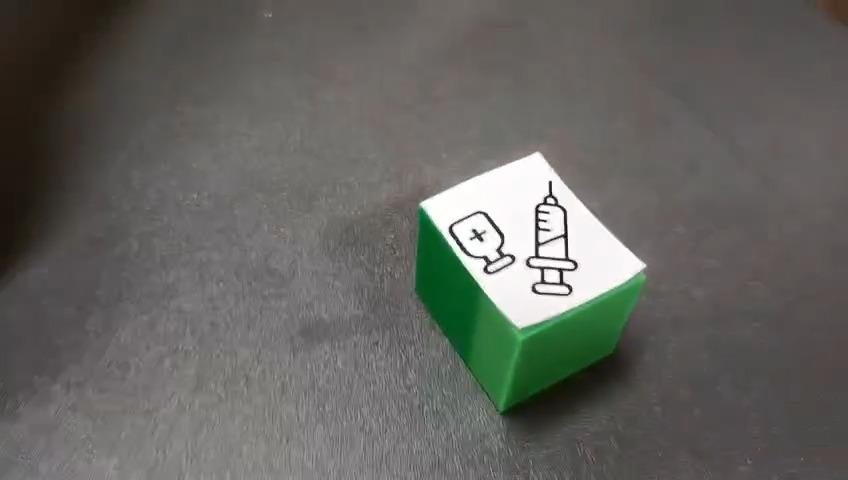antiseptic cream: (413, 149, 648, 414)
